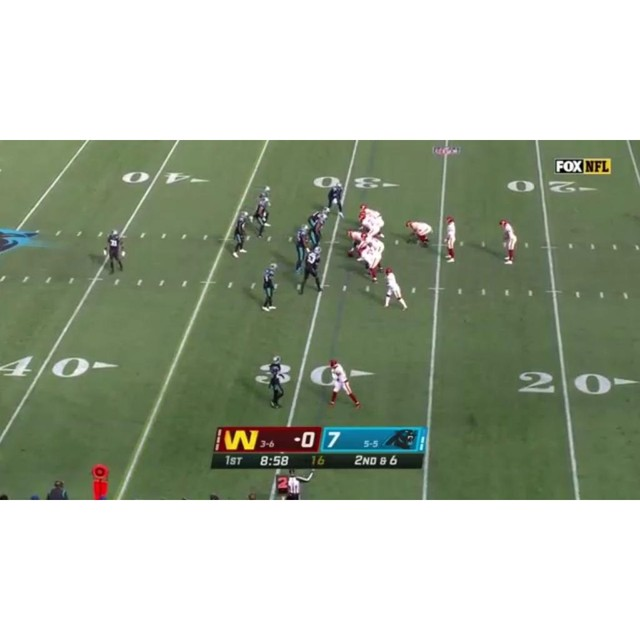american-football-player: (328, 358, 360, 409), (297, 245, 323, 294), (356, 242, 383, 284), (383, 267, 408, 312), (306, 209, 331, 250), (267, 356, 286, 409), (104, 230, 126, 272), (253, 189, 271, 239), (499, 219, 518, 265), (232, 210, 250, 258), (261, 262, 278, 312), (405, 220, 432, 248), (325, 183, 346, 218), (443, 215, 457, 262), (358, 214, 384, 239)
